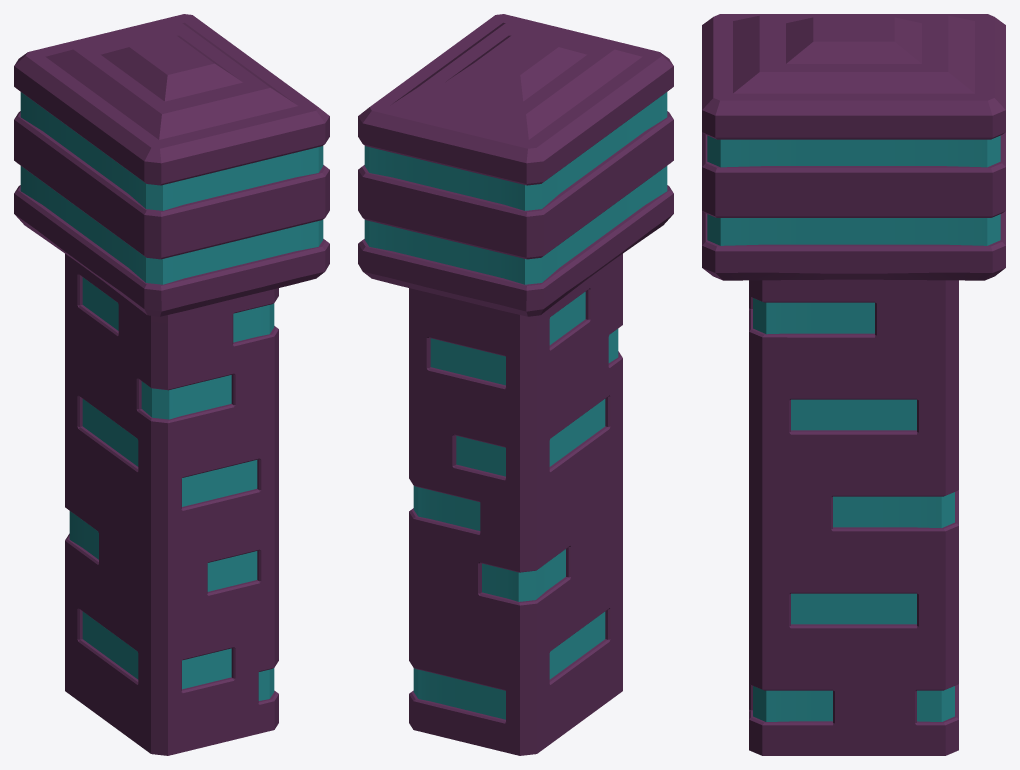
The model's file is BuildingD.fbx.
The picture shows the model from 3 angles, left to right: view 1: azimuth 30°, elevation 25°; view 2: azimuth 150°, elevation 25°; view 3: azimuth 270°, elevation 25°; orthographic projection. The views are drawn at different scales.
Visible parts, largest first — view 1: BuildingD; view 2: BuildingD; view 3: BuildingD.
Boxes of the visible parts, x1,y1,x2,y2 form: BuildingD: [14, 14, 329, 755]; BuildingD: [358, 14, 673, 755]; BuildingD: [702, 14, 1005, 755].
Bounding box in the file's own units: 434 × 1458 × 579.
